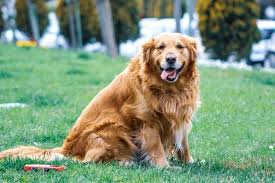Golden Retriever: (50, 22, 230, 172)
